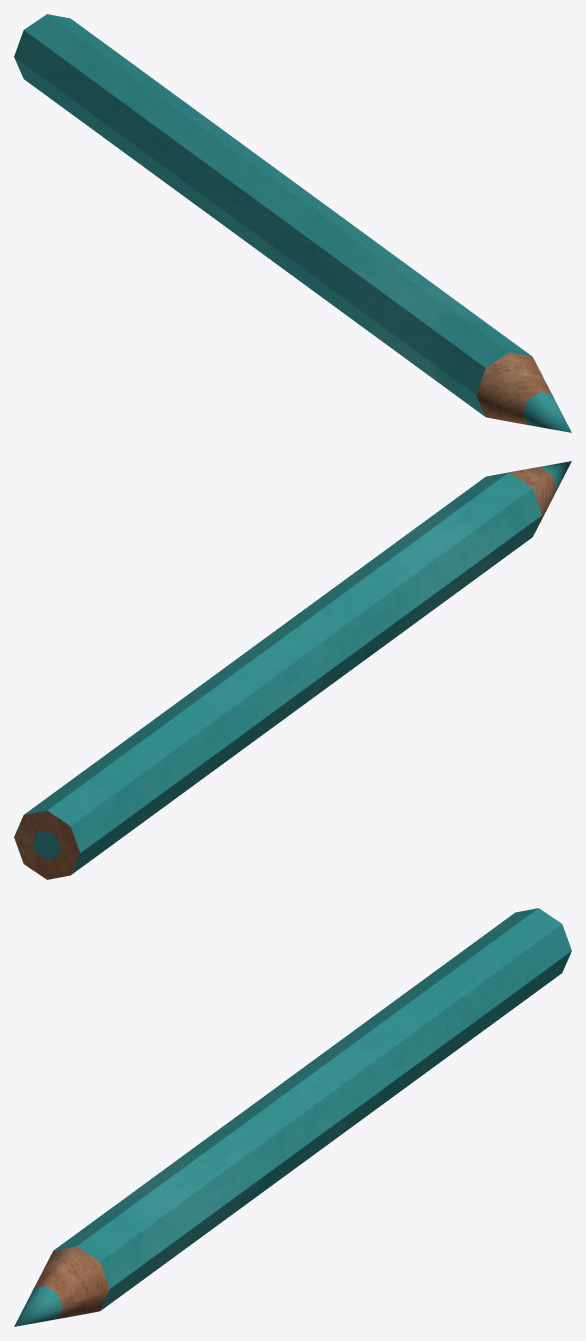
The model's file is Pencil_Bluesky.fbx.
The picture shows the model from 3 angles, top to bottom: view 1: azimuth 30°, elevation 25°; view 2: azimuth 150°, elevation 25°; view 3: azimuth 330°, elevation 25°; orthographic projection.
Visible parts, largest first — view 1: Pencil.004; view 2: Pencil.004; view 3: Pencil.004.
Part boxes in pixels (bbox=[...]): Pencil.004: bbox=[14, 14, 571, 432]; Pencil.004: bbox=[14, 461, 571, 879]; Pencil.004: bbox=[14, 908, 571, 1326].
Bounding box in the file's own units: 14.61 × 14.61 × 200.
